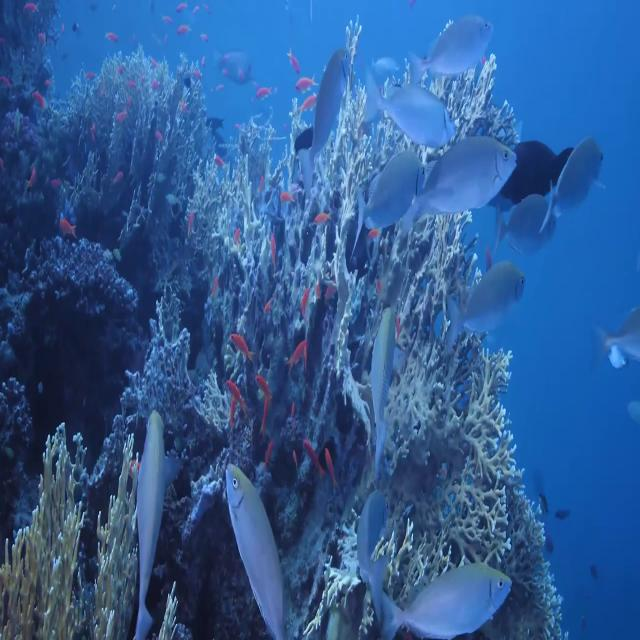fish: (225, 460, 284, 640), (382, 562, 515, 640), (412, 136, 518, 232), (129, 411, 172, 640), (364, 66, 456, 151), (351, 149, 429, 245), (300, 44, 350, 193), (402, 14, 494, 86), (447, 264, 526, 346), (543, 134, 606, 234), (354, 487, 392, 627), (494, 139, 575, 201), (489, 188, 556, 256), (372, 309, 398, 463)
